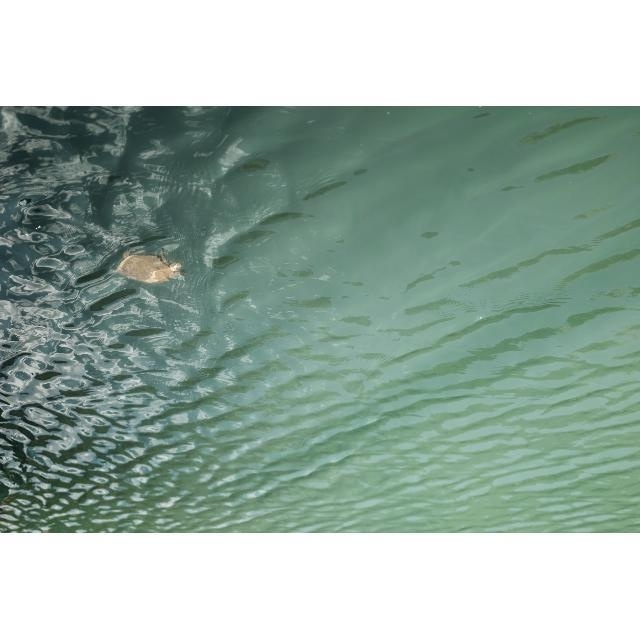turtle: (115, 247, 185, 285)
